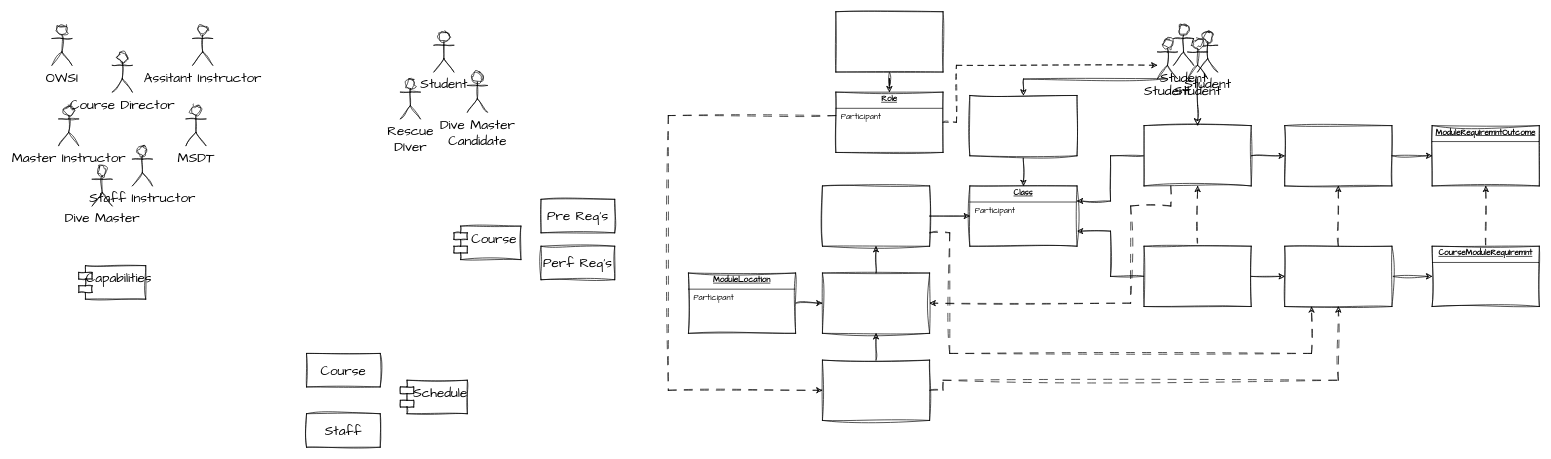
The diagram is 1551 pixels wide and 459 high, and some of its shapes have lost their labels. The shapes that lost their labels are listed below. From the top down, each one's centre as x and y in pixels, then its label:
At [889,41]: "Person Participant".
At [1023,125]: "ClassEnrollment Participant".
At [1197,155]: "ClassOutcome Participant".
At [1338,155]: "ClassModuleOutcome".
At [876,215]: "Mddule Participant".
At [1197,276]: "Course Participant".
At [1338,276]: "CourseModule".
At [876,302]: "ModuleScheduled Participant".
At [876,389]: "ModuleStaff Participant".
